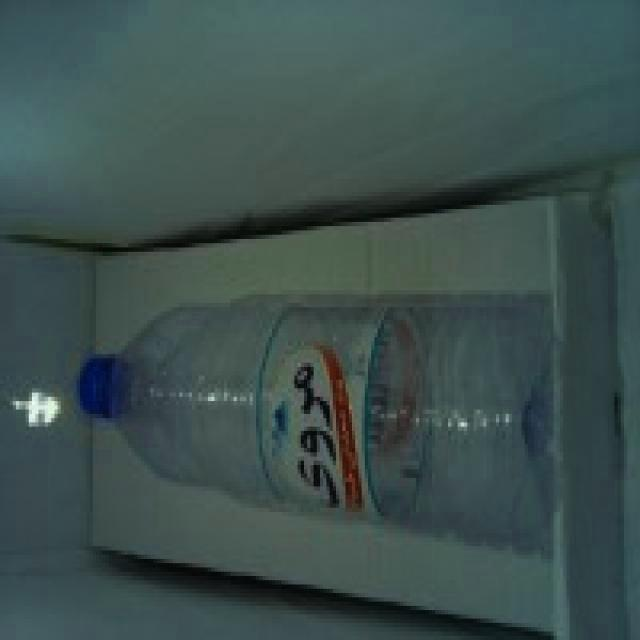bottle: (79, 306, 553, 555)
